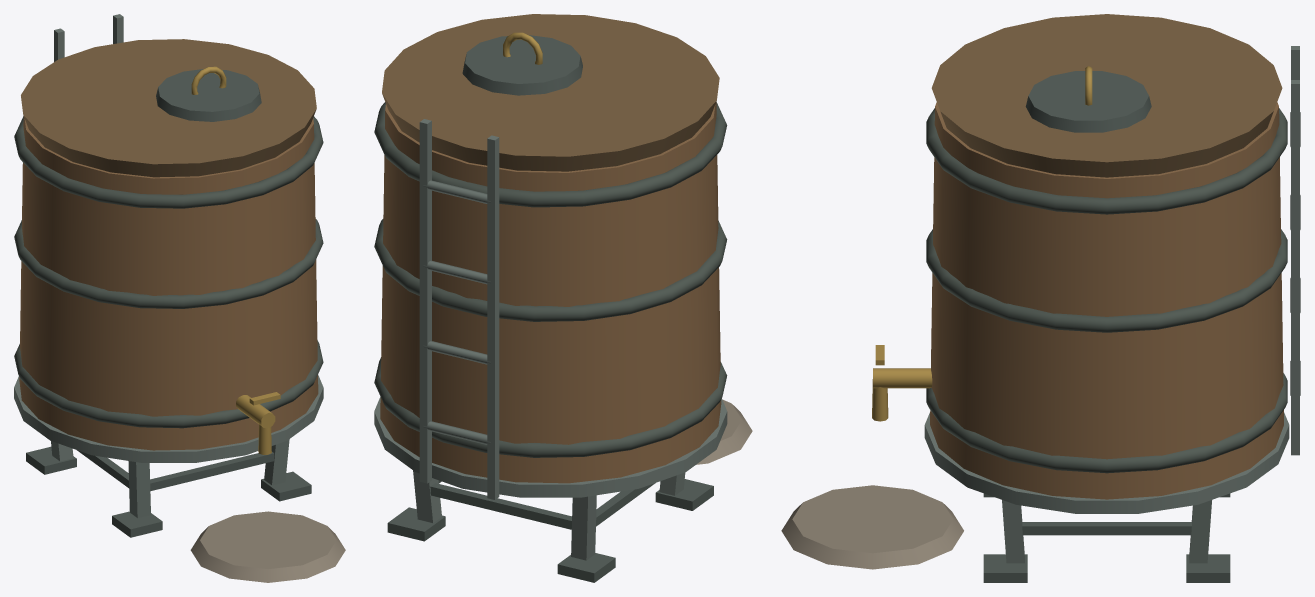
The model's file is farm-water-butt.glb.
3 renders of one model, left to right at view 1: azimuth 30°, elevation 25°; view 2: azimuth 150°, elevation 25°; view 3: azimuth 270°, elevation 25°, orthographic. The views are drawn at different scales.
Parts seen in each view (by area): view 1: waterButtStaves, waterButtHardware; view 2: waterButtHardware, waterButtStaves; view 3: waterButtStaves, waterButtHardware.
Part boxes in pixels (x1,y1,x2,y2): waterButtStaves: (19, 116, 318, 450); waterButtHardware: (14, 14, 345, 582); waterButtHardware: (374, 14, 752, 582); waterButtStaves: (380, 102, 721, 483); waterButtStaves: (930, 102, 1283, 499); waterButtHardware: (781, 14, 1300, 582).
Bounding box in the file's own units: 1.6 × 2.33 × 2.27.
